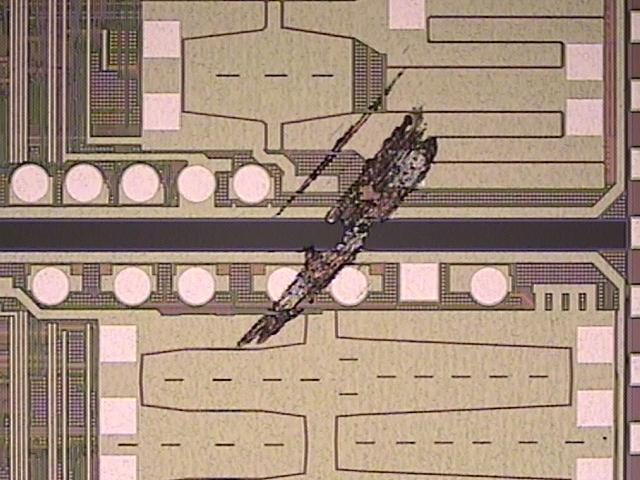SCRATCH: (236, 41, 444, 359)
